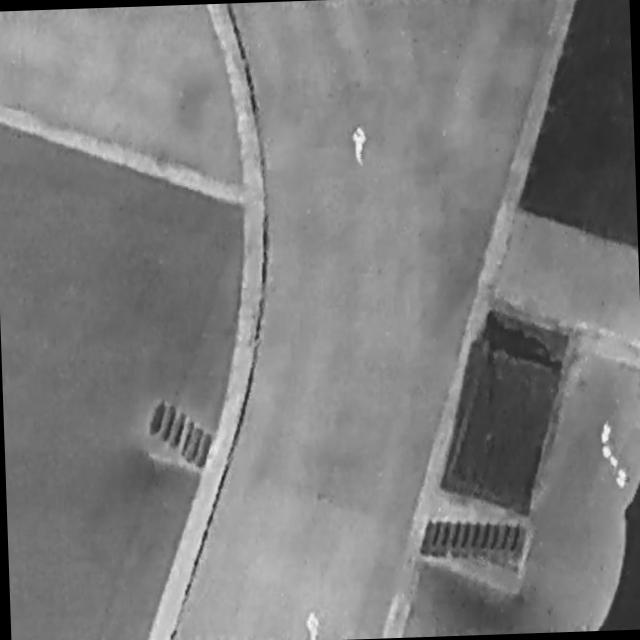person: (350, 120, 370, 170), (304, 609, 321, 640)
